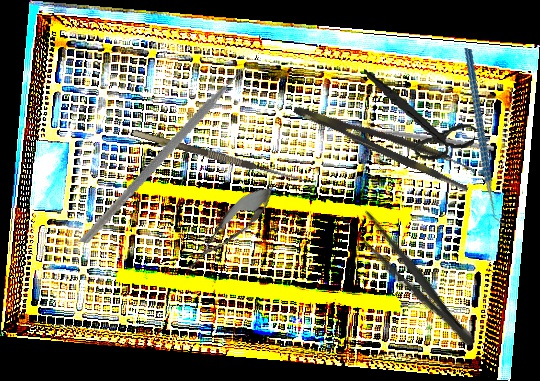Chopper: (77, 40, 270, 271), (434, 47, 538, 227)
Dressing Forceps: (336, 199, 485, 354)
Hook Surgical: (132, 119, 313, 187)
Iris Scissors: (354, 67, 482, 166)
Micro Scissor: (177, 175, 283, 281)
Spatula Surgical: (366, 122, 496, 151)
Tissue Forceps: (291, 90, 478, 193)
